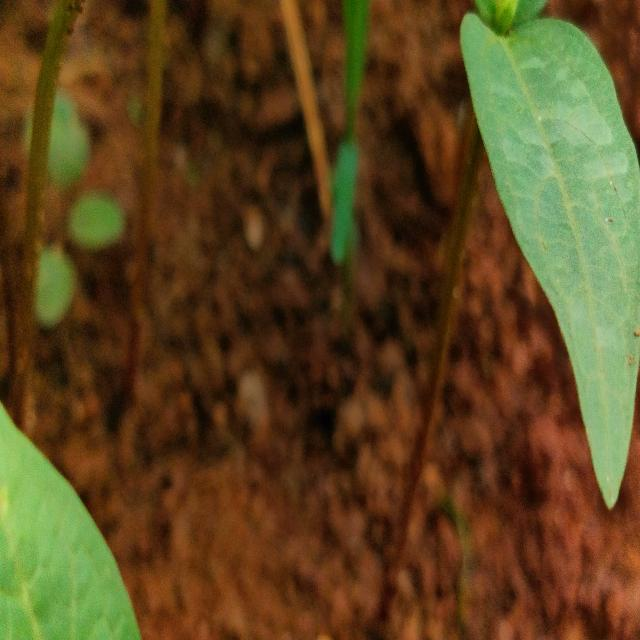Black gram_healthy: (460, 8, 640, 502)
